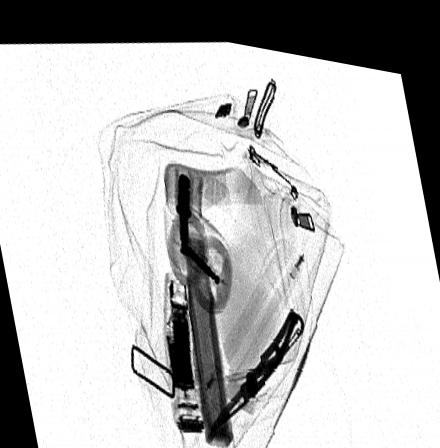Knife: (208, 296, 305, 430)
